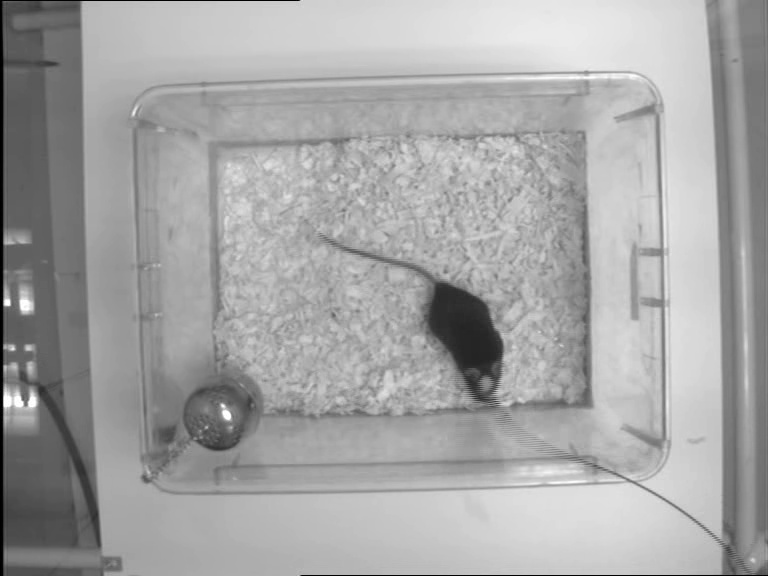mice: (315, 225, 505, 413)
